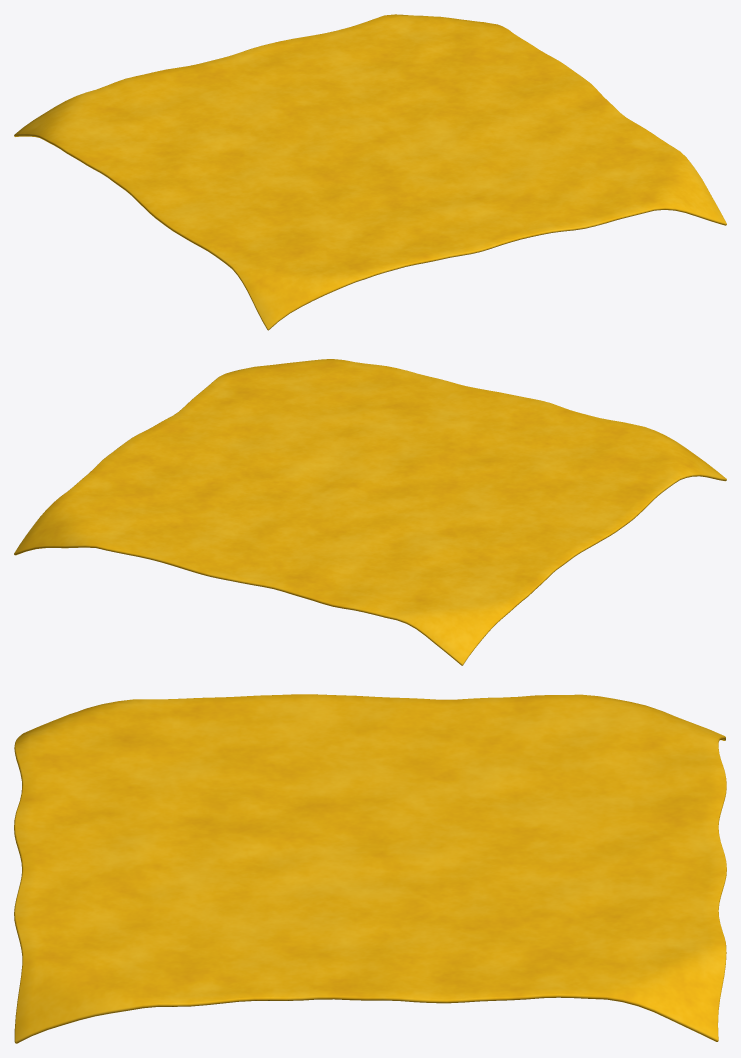
The model's file is american-cheese.glb.
The picture shows the model from 3 angles, top to bottom: view 1: azimuth 30°, elevation 25°; view 2: azimuth 150°, elevation 25°; view 3: azimuth 270°, elevation 25°; orthographic projection. The views are drawn at different scales.
Parts seen in each view (by area): view 1: american-cheese; view 2: american-cheese; view 3: american-cheese.
Part boxes in pixels (x1,y1,x2,y2): american-cheese: [14, 14, 726, 330]; american-cheese: [14, 359, 726, 665]; american-cheese: [14, 694, 726, 1043].
Size of the model in its own units: 1.78 by 0.1381 by 1.75.
Materials: 1 (1 with a texture image).
